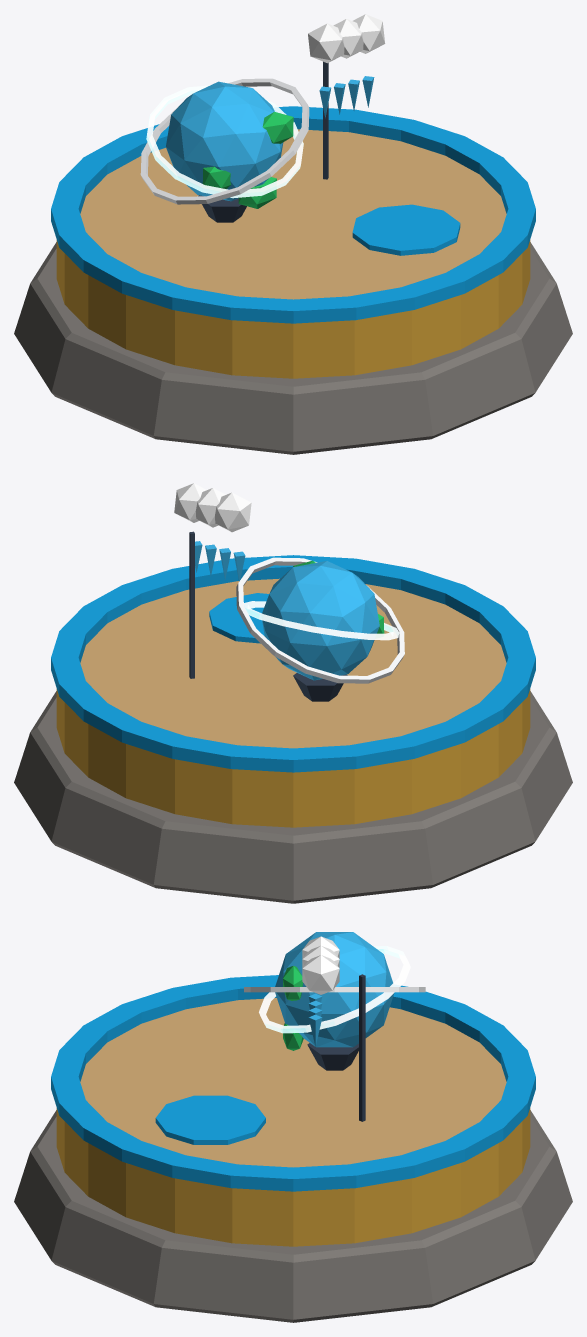
The model's file is stasiun_hidrosfer_v001.glb.
3 views of the same model, one above another, from view 1: azimuth 30°, elevation 25°; view 2: azimuth 150°, elevation 25°; view 3: azimuth 270°, elevation 25° (orthographic).
Parts seen in each view (by area): view 1: Stasiun_Hidrosfer; view 2: Stasiun_Hidrosfer; view 3: Stasiun_Hidrosfer.
Part boxes in pixels (x1=…): Stasiun_Hidrosfer: x1=14, y1=14, x2=572, y2=454; Stasiun_Hidrosfer: x1=14, y1=483, x2=572, y2=903; Stasiun_Hidrosfer: x1=14, y1=932, x2=572, y2=1322.
Bounding box in the file's own units: 2.03 × 1.17 × 2.03.
